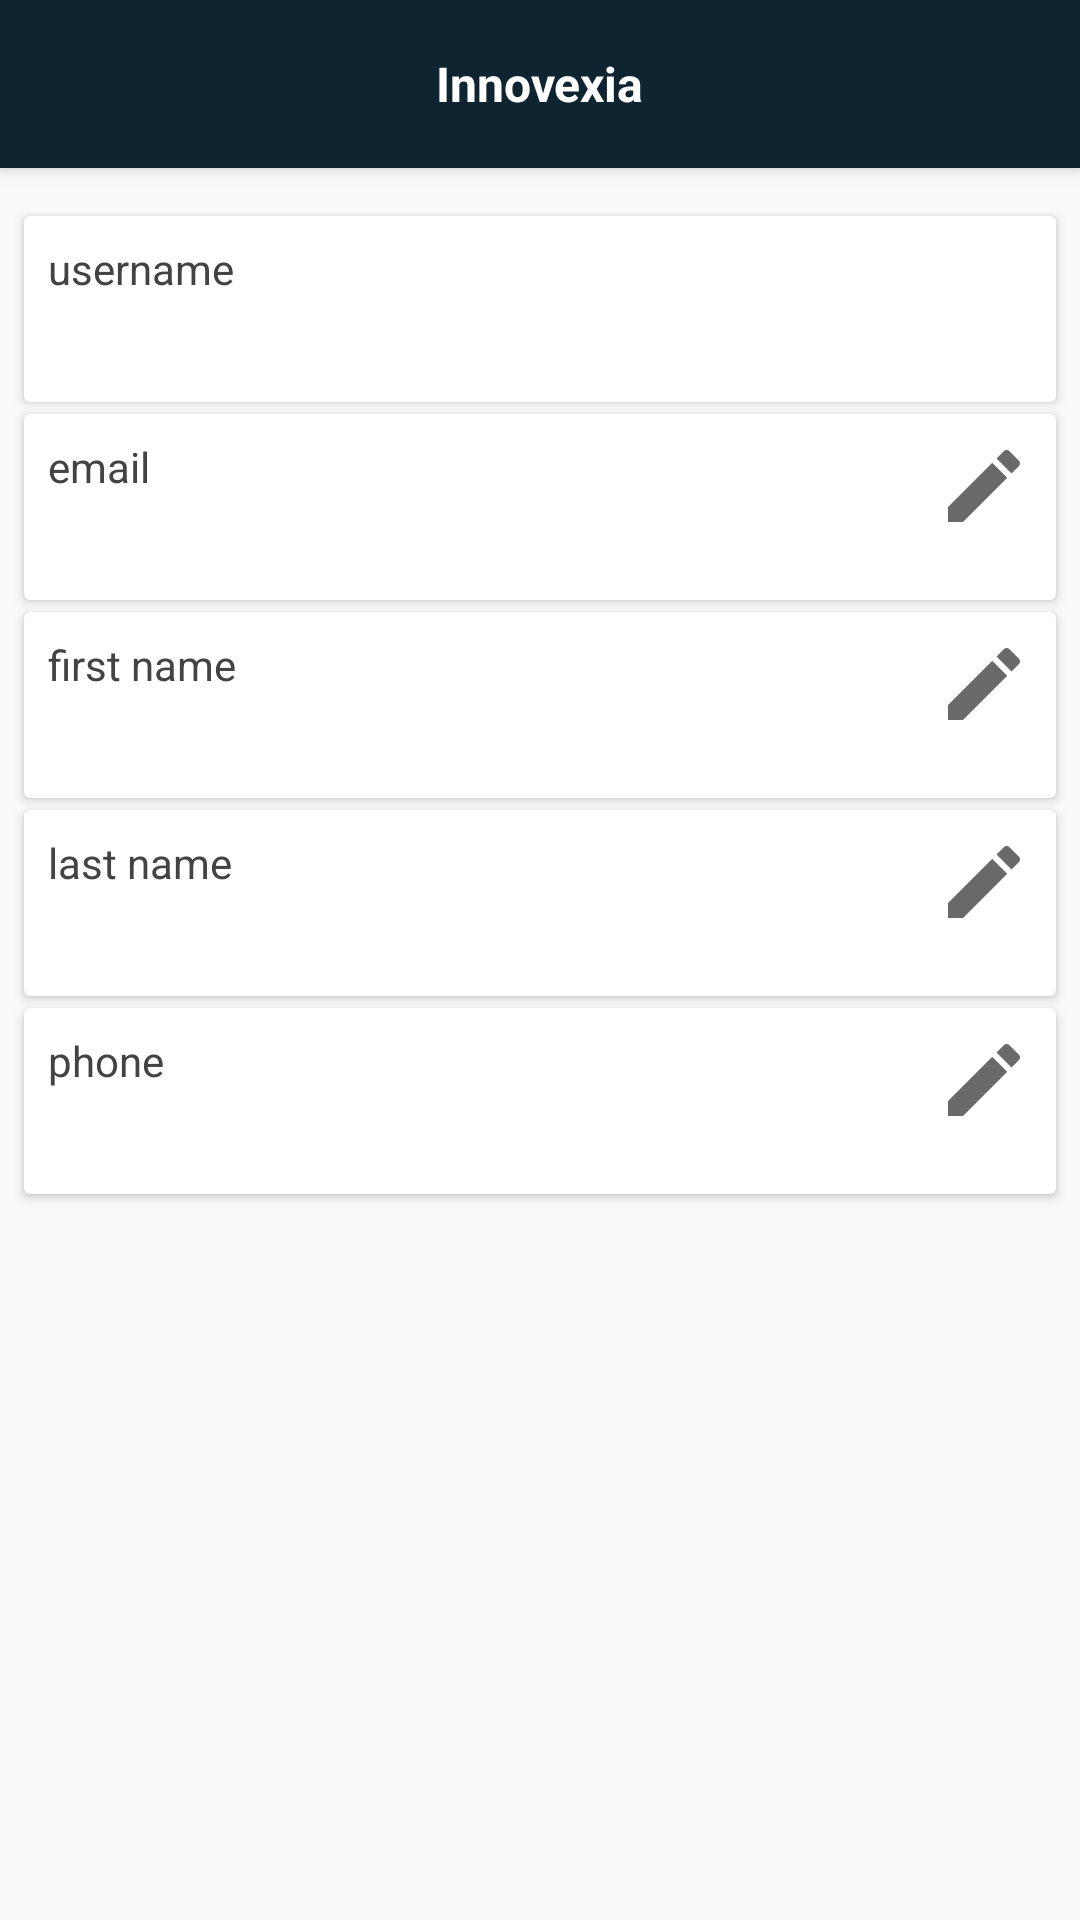

Locate icon controls on the screen. Image size 1080px×1920px, boxes as (x1, y1, x2, y2).
edit: (948, 450, 1020, 522), (948, 648, 1020, 720), (948, 846, 1020, 918), (948, 1044, 1020, 1116)
